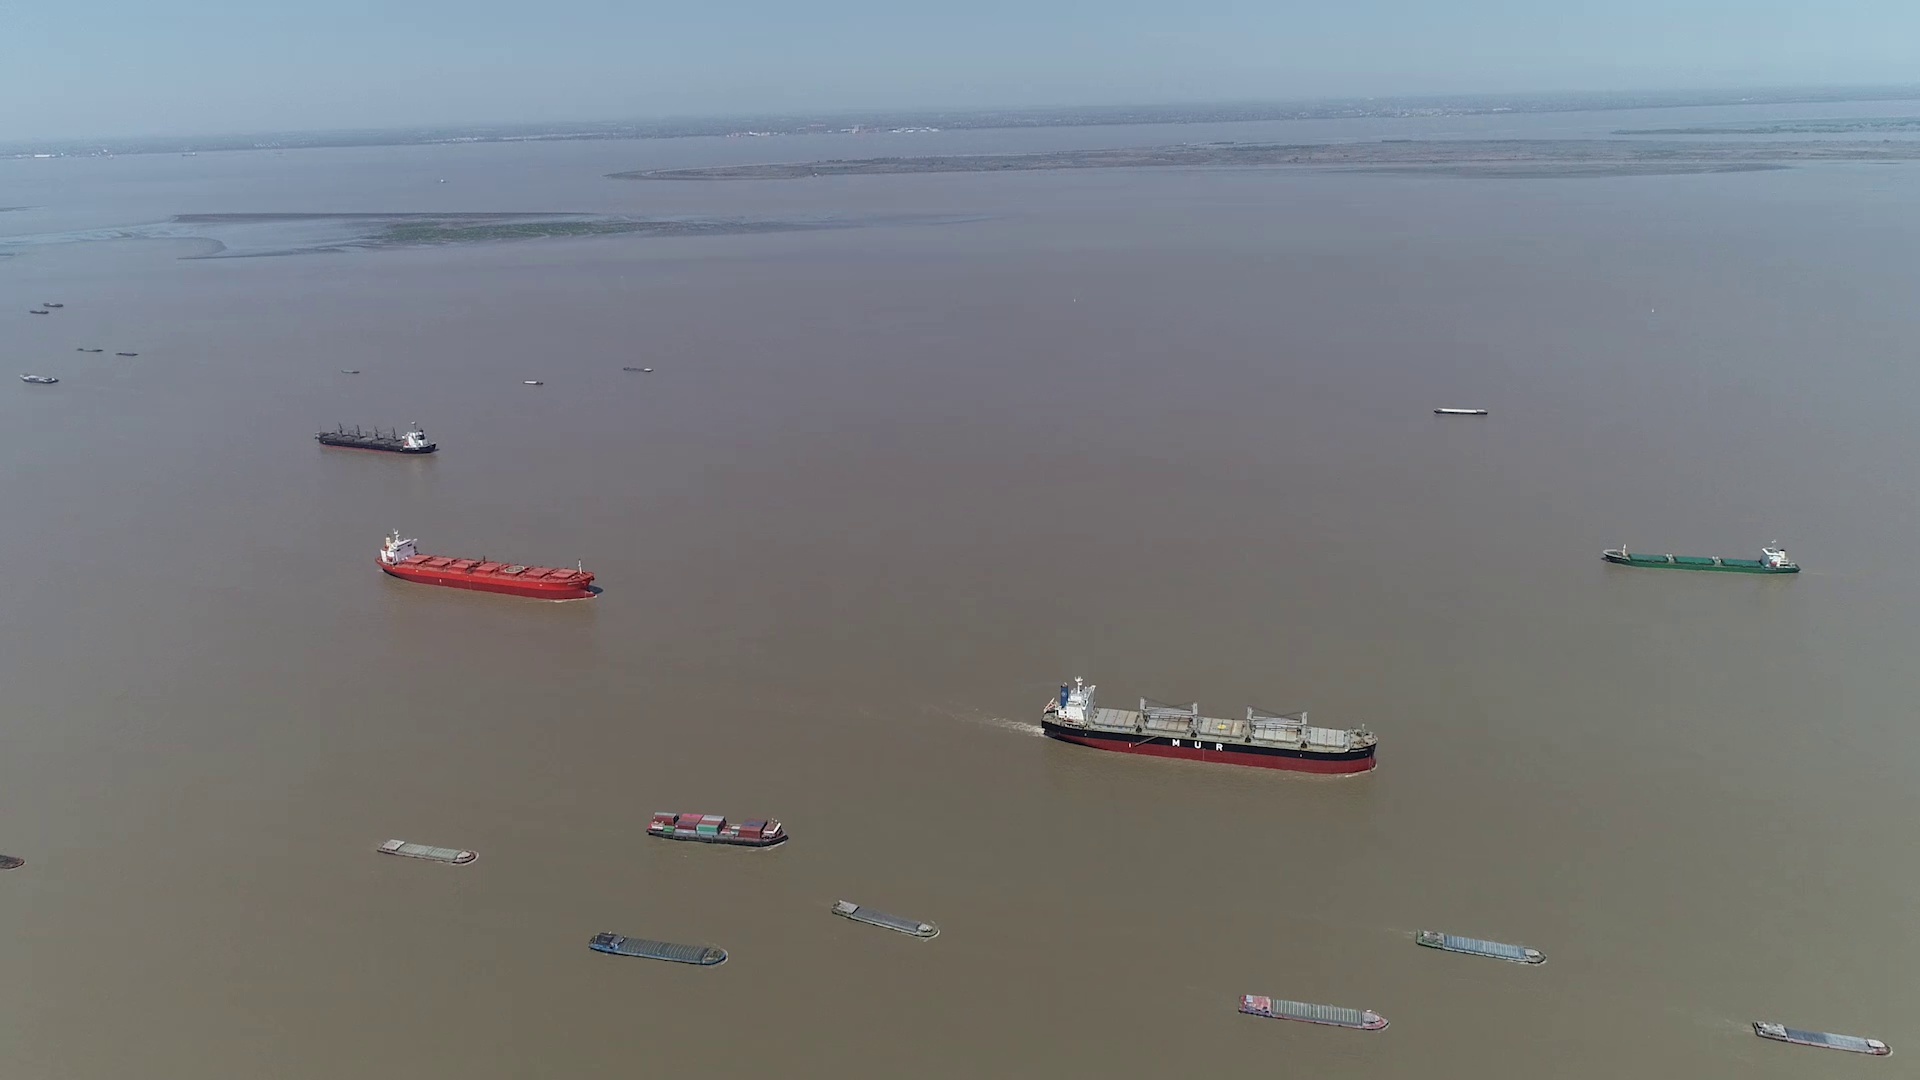ship: (1042, 676, 1379, 773), (375, 531, 593, 597), (607, 903, 765, 949), (1600, 541, 1797, 575), (1240, 992, 1386, 1030), (1749, 1018, 1894, 1056), (587, 930, 728, 968), (1415, 928, 1548, 967), (651, 812, 789, 848), (829, 899, 942, 940), (318, 421, 436, 454), (378, 837, 481, 866), (0, 849, 24, 872), (22, 372, 59, 385), (1435, 407, 1487, 415), (624, 367, 655, 373), (522, 378, 543, 386)
